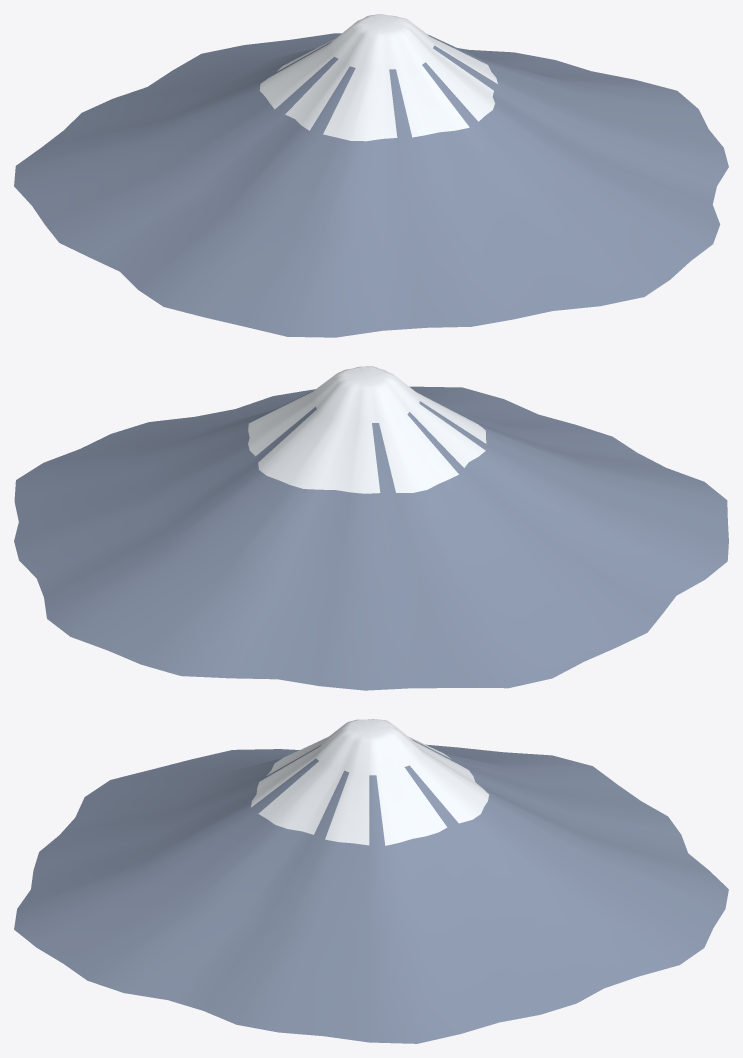
The model's file is SnowPeak.fbx.
3 views of the same model, one above another, from view 1: azimuth 30°, elevation 25°; view 2: azimuth 150°, elevation 25°; view 3: azimuth 270°, elevation 25° (orthographic). The views are drawn at different scales.
Visible parts, largest first — view 1: SnowPeak; view 2: SnowPeak; view 3: SnowPeak.
Boxes of the visible parts, x1,y1,x2,y2 form: SnowPeak: (14, 14, 728, 337); SnowPeak: (14, 366, 728, 690); SnowPeak: (14, 719, 728, 1043).
Bounding box in the file's own units: 122 × 30.6 × 123.
1 material, 1 textured.
